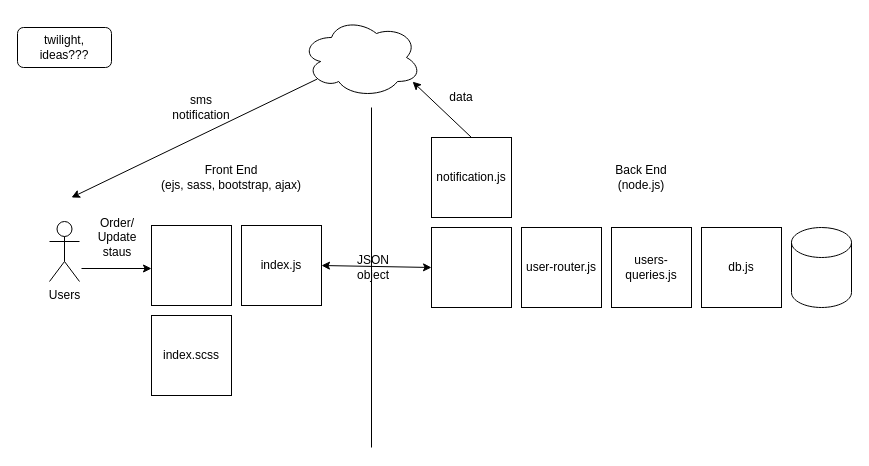
Image size: 869x466. Some labels were removed from this diagram. Each missing label, with the centre of its shape:
index.ejs: [191,265]
midterm DB: [821,267]
Server.js: [471,267]
twilio: [361,57]
